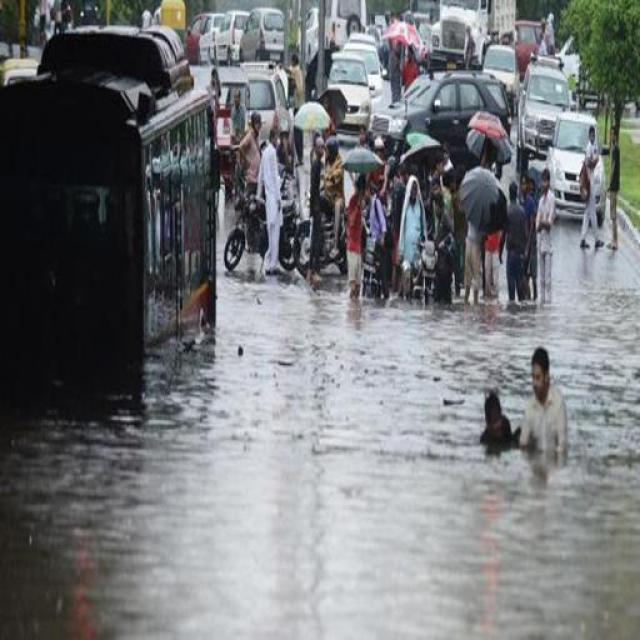puddle: (12, 409, 473, 640), (344, 459, 635, 640), (228, 288, 462, 438), (559, 267, 640, 582)
